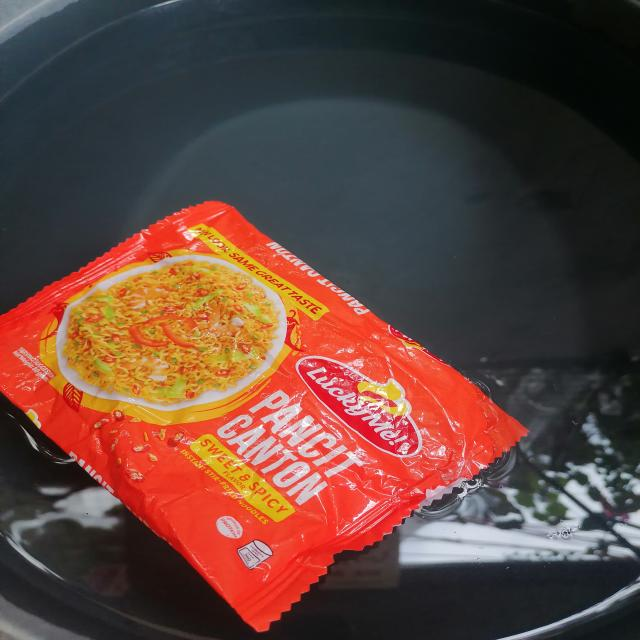Plastic Wrapper: (0, 185, 546, 640)
